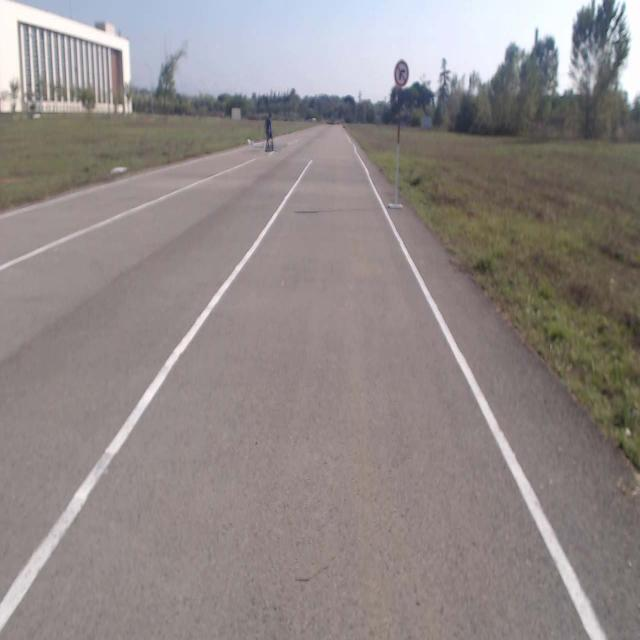sagadonulmez: (394, 61, 408, 87)
